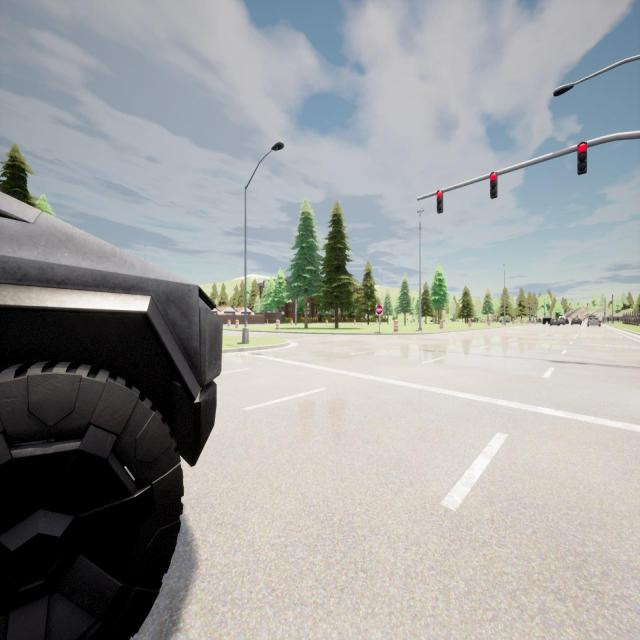Pedestrian: (608, 316, 610, 324), (617, 316, 619, 324), (539, 316, 541, 324)
Traffic_Signs: (375, 305, 383, 315)
Vehicle: (2, 191, 223, 639), (587, 317, 601, 327), (570, 318, 582, 326), (550, 318, 560, 326), (543, 316, 551, 325), (560, 316, 566, 326), (566, 317, 570, 324)
traffic_light: (578, 142, 586, 174), (490, 172, 498, 198), (437, 190, 443, 213), (569, 303, 570, 307), (611, 301, 612, 304), (587, 303, 588, 306), (604, 312, 605, 314), (578, 303, 578, 306)
